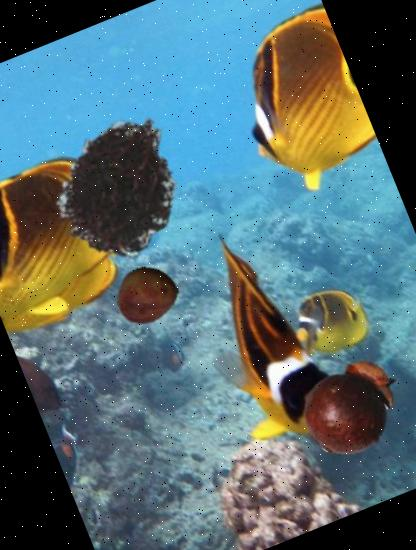Mangostan: (284, 339, 416, 472)
Peach: (106, 252, 189, 336)
Rambutan: (23, 88, 214, 279)
